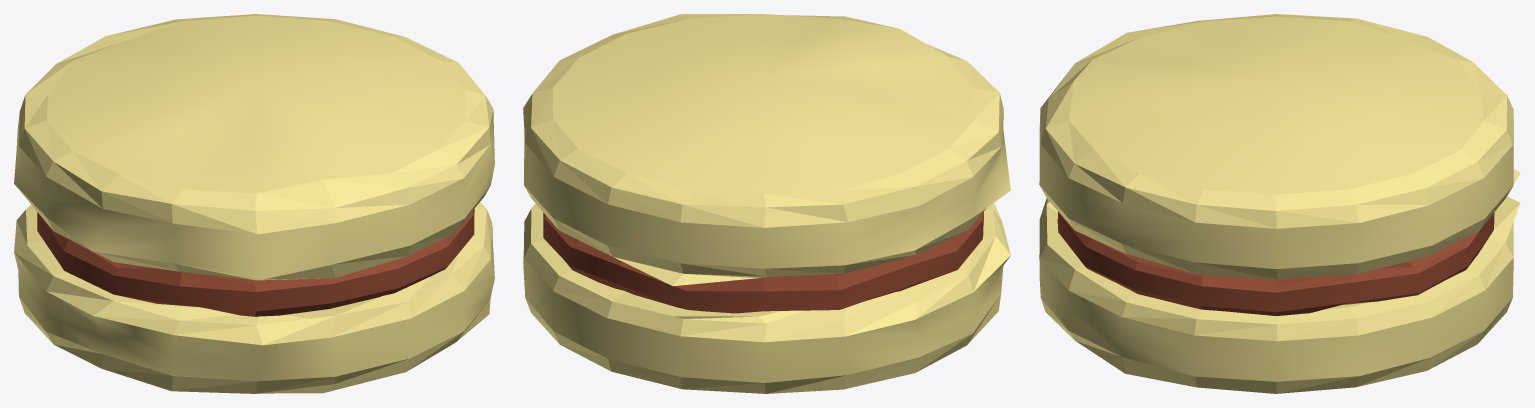
File: harmburguesa.FBX
The picture shows the model from 3 angles, left to right: view 1: azimuth 30°, elevation 25°; view 2: azimuth 150°, elevation 25°; view 3: azimuth 270°, elevation 25°; orthographic projection.
Parts seen in each view (by area): view 1: Cylinder001, Cylinder003; view 2: Cylinder001, Cylinder003; view 3: Cylinder001, Cylinder003.
Boxes of the visible parts, x1,y1,x2,y2 form: Cylinder001: (14,14,494,393); Cylinder003: (37,209,474,316); Cylinder001: (523,14,1010,393); Cylinder003: (543,212,983,313); Cylinder001: (1039,14,1520,393); Cylinder003: (1057,211,1494,316).
Size of the model in its own units: 147 by 146 by 82.01.
